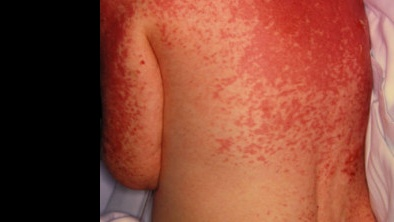SJS-TEN: (99, 0, 384, 222)
